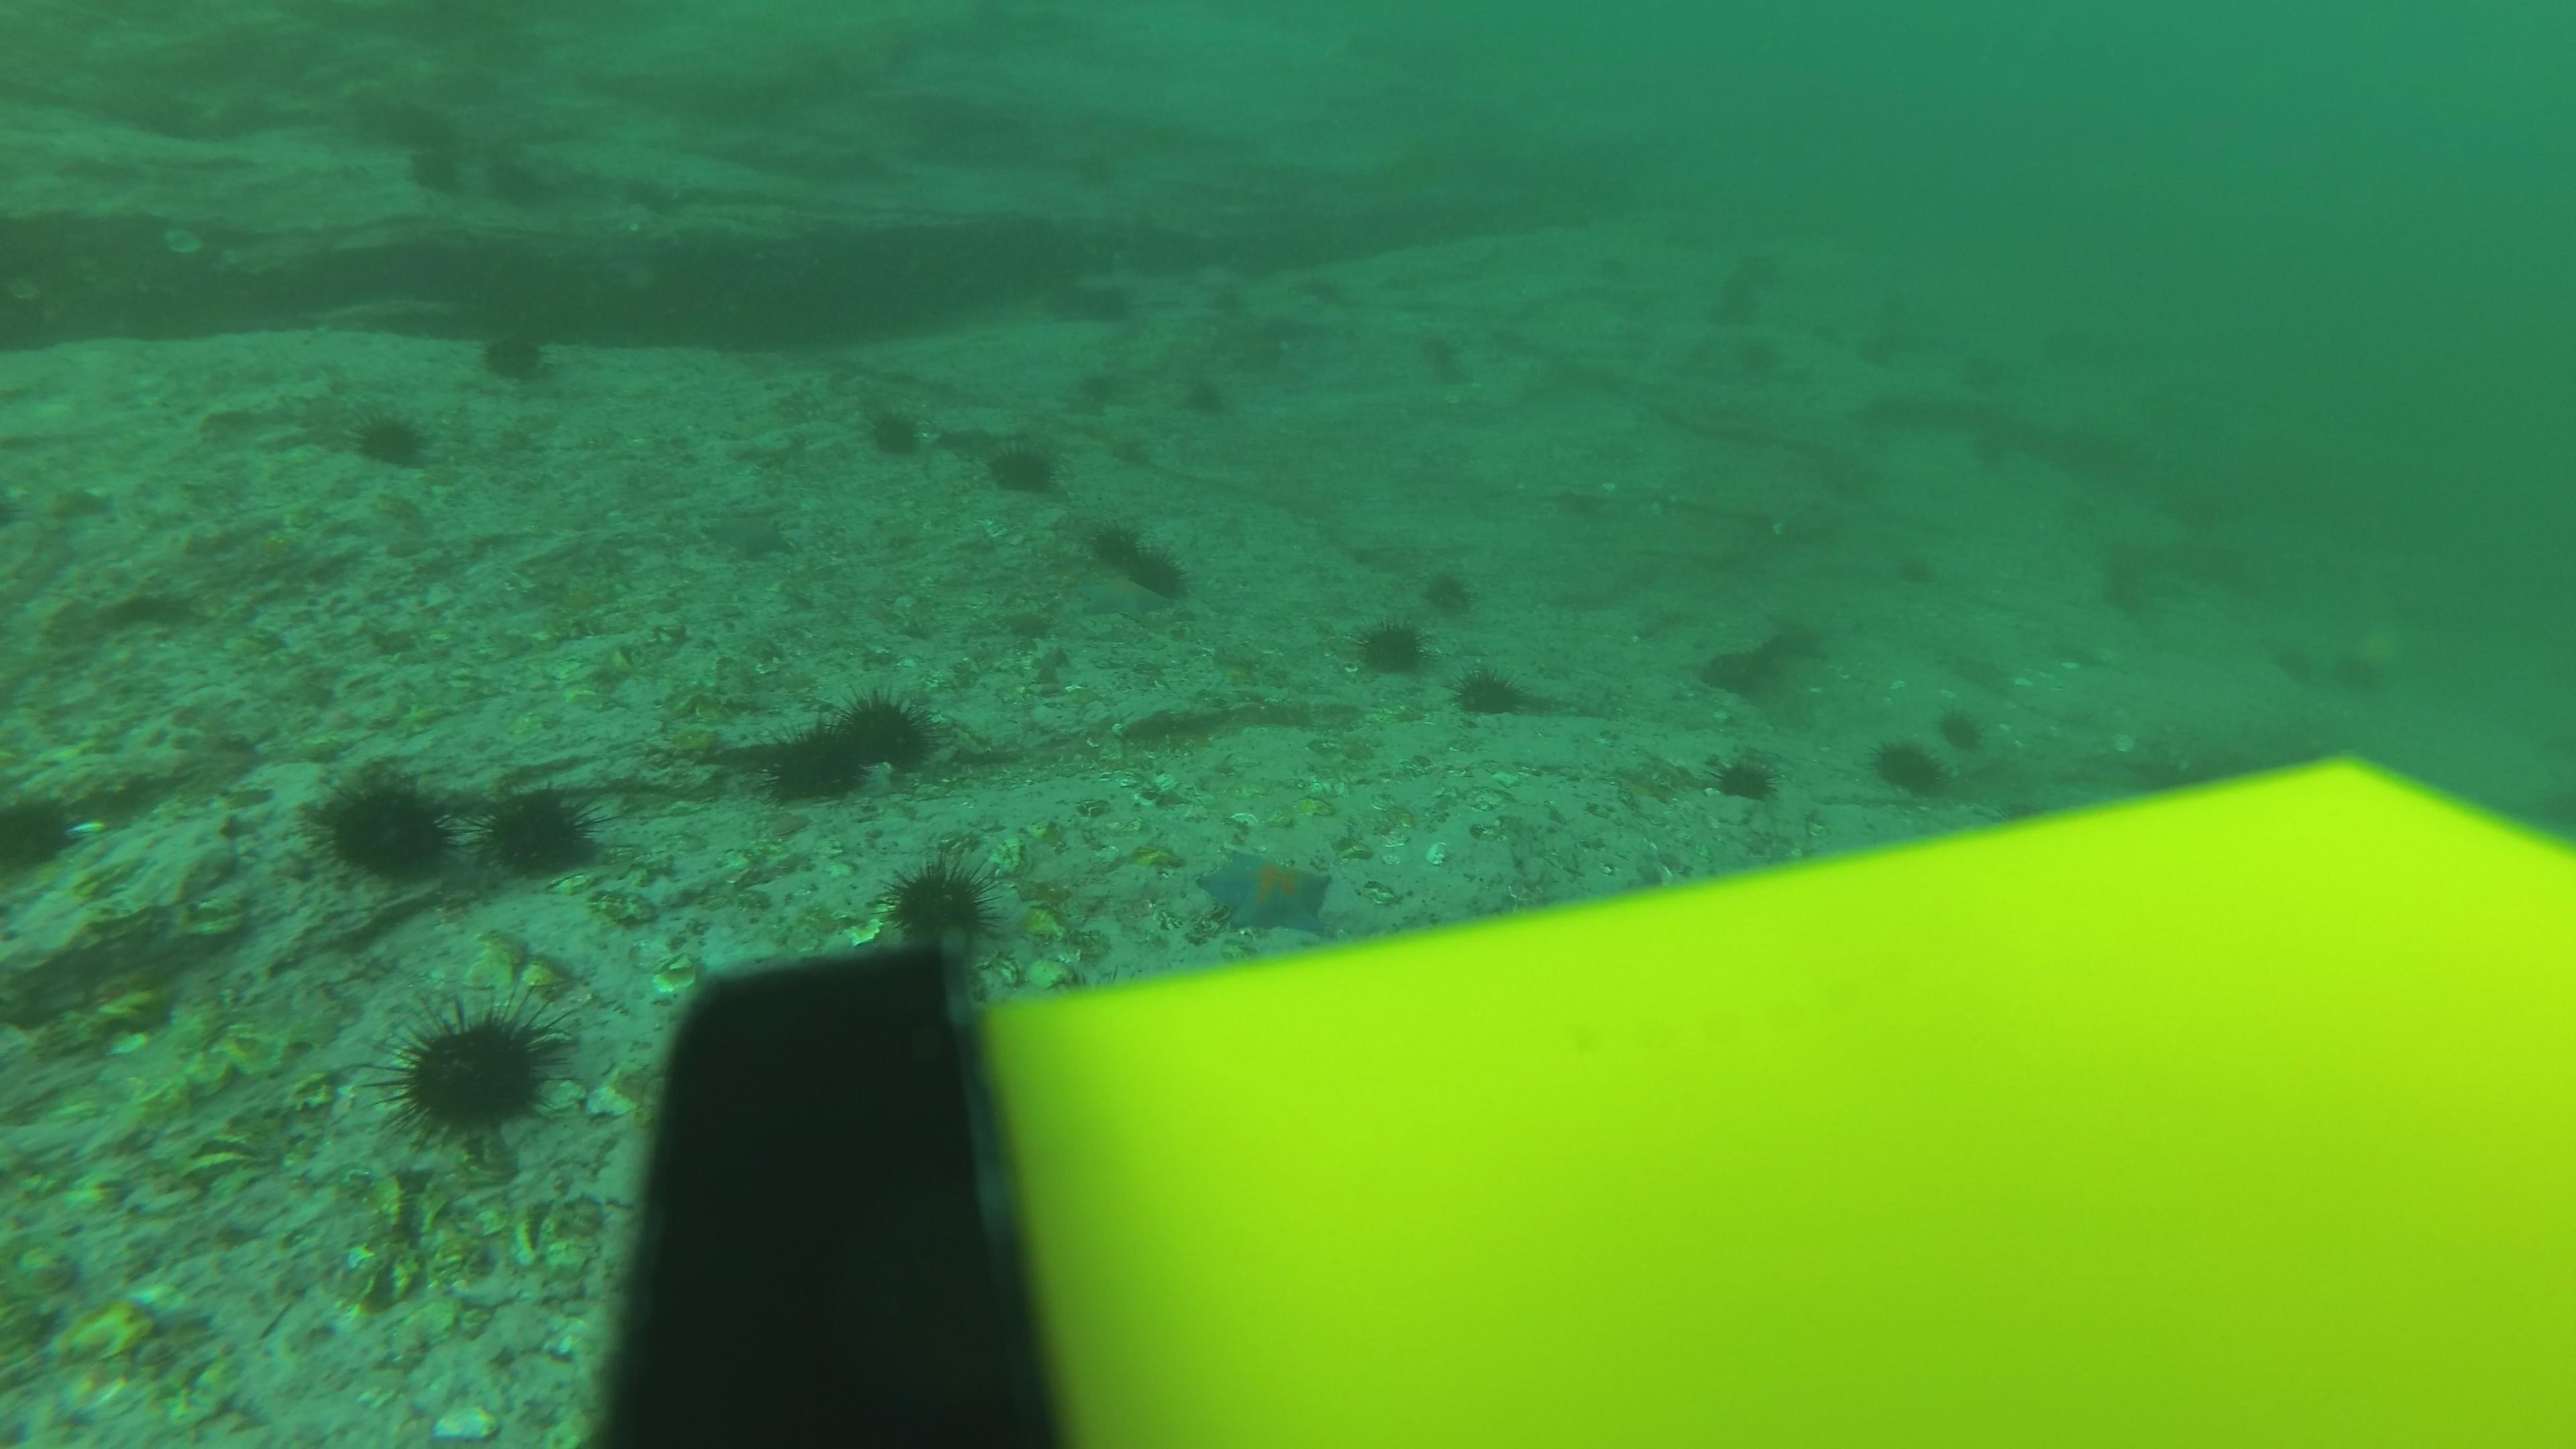echinus: (382, 991, 570, 1146), (306, 763, 458, 890), (478, 778, 605, 885), (876, 851, 1001, 957), (801, 686, 941, 780), (747, 722, 886, 816), (0, 782, 88, 885), (1868, 718, 1974, 801), (343, 402, 437, 476), (471, 315, 561, 389), (980, 430, 1067, 502), (1348, 612, 1433, 685), (398, 126, 474, 200), (1695, 640, 1782, 702), (1449, 660, 1529, 725), (1706, 745, 1783, 809), (858, 398, 932, 464), (1136, 540, 1201, 600), (1085, 518, 1150, 577), (1415, 561, 1479, 619), (1888, 536, 1948, 596), (1736, 324, 1796, 384), (1575, 166, 1635, 226), (2102, 561, 2160, 621), (1957, 423, 2017, 481), (2026, 318, 2084, 379), (1854, 326, 1914, 384), (1790, 308, 1851, 366), (1727, 241, 1787, 299), (1932, 702, 1990, 761), (1957, 345, 2015, 403), (1587, 239, 1645, 297), (1063, 352, 1123, 409), (607, 166, 667, 223), (1171, 357, 1231, 412), (1081, 280, 1141, 334), (1040, 272, 1100, 327), (1060, 142, 1120, 196), (1198, 269, 1258, 324), (1417, 331, 1467, 377), (1426, 357, 1470, 393)
starfish: (1194, 844, 1339, 939), (1074, 573, 1189, 635), (987, 885, 1072, 962), (702, 502, 798, 566), (1608, 752, 1688, 814), (1097, 833, 1185, 886)
